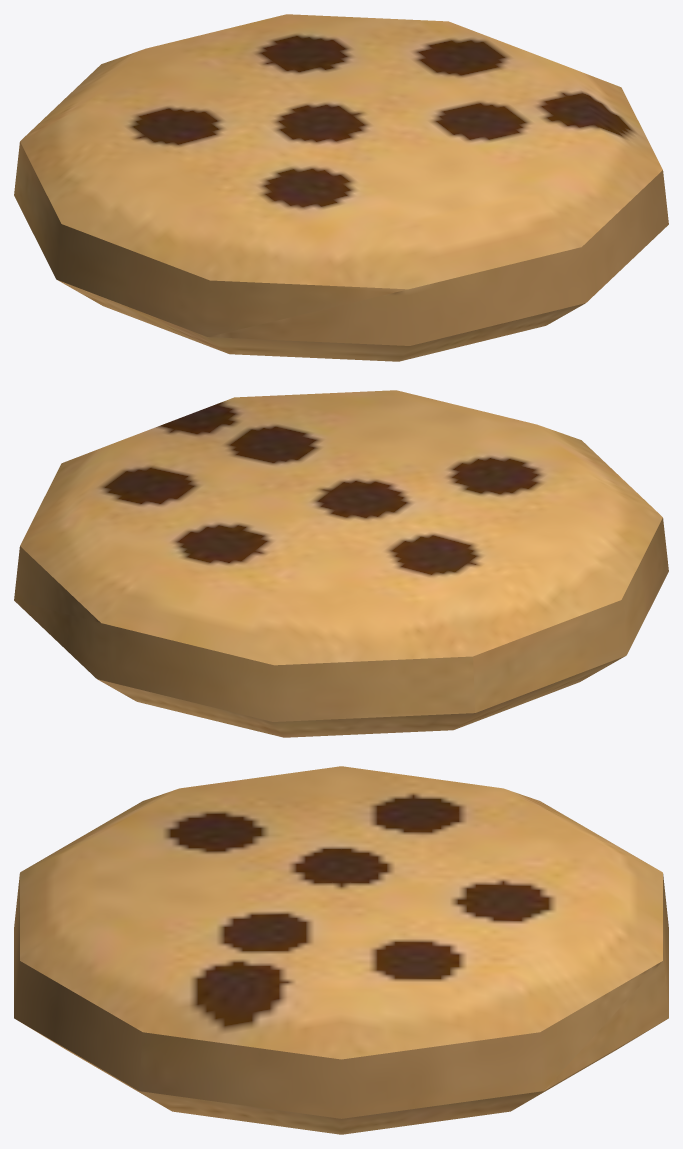
The model's file is remote_hand_cookie.glb.
3 renders of one model, top to bottom at view 1: azimuth 30°, elevation 25°; view 2: azimuth 150°, elevation 25°; view 3: azimuth 270°, elevation 25°, orthographic. The views are drawn at different scales.
Visible parts, largest first — view 1: CookieMesh; view 2: CookieMesh; view 3: CookieMesh.
Boxes of the visible parts, x1,y1,x2,y2 form: CookieMesh: (14,14,668,361); CookieMesh: (14,390,668,737); CookieMesh: (14,766,668,1134).
Bounding box in the file's own units: 0.11 × 0.024 × 0.1046.
Materials: 1 (1 with a texture image).
